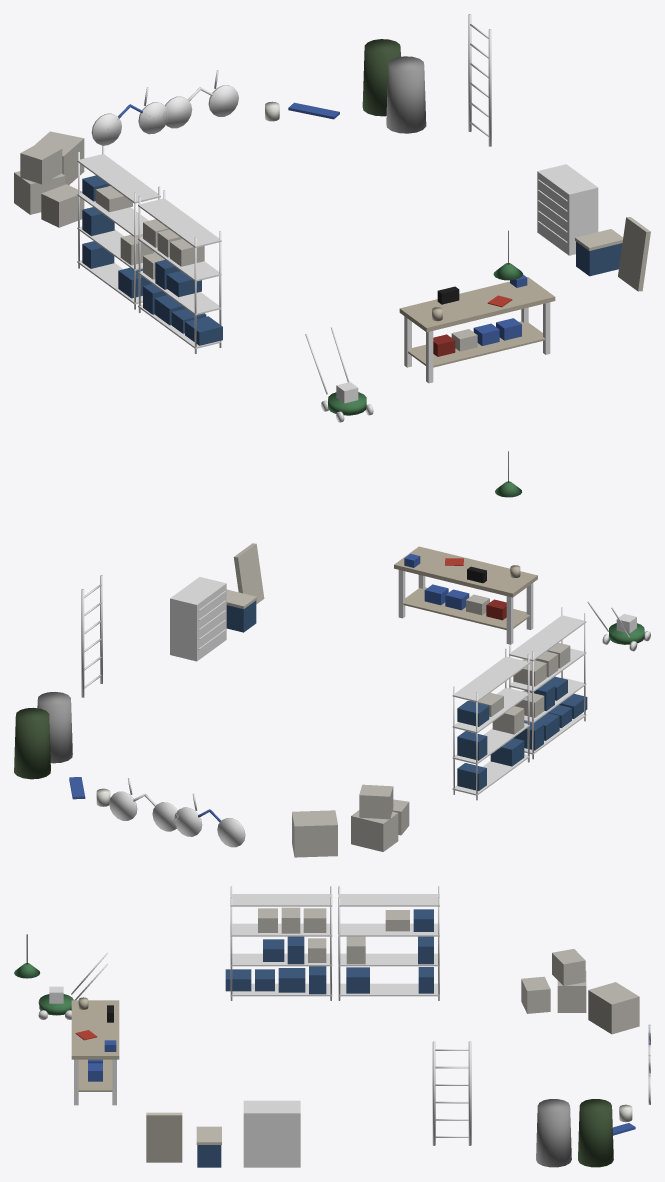
Rendered from hood_garage.glb.
The picture shows the model from 3 angles, top to bottom: view 1: azimuth 30°, elevation 25°; view 2: azimuth 150°, elevation 25°; view 3: azimuth 270°, elevation 25°; orthographic projection. The views are drawn at different scales.
Parts seen in each view (by area): view 1: chest_drawer.012, box.037, box.036, bench_shelf.008, bike_frame.027, bike_wheel.021, bin, cooler_lid.004, bin.001, bench_leg.014, bike_frame.026, light_shade.004 (+1 smaller); view 2: chest_drawer.012, box.037, box.036, bench_shelf.008, bike_frame.027, bike_wheel.021, bin.001, bin, cooler_lid.004, bench_leg.014, bike_frame.026, light_shade.004; view 3: chest_drawer.012, box.037, box.036, bike_frame.027, bench_shelf.008, cooler_lid.004, bin, bin.001, light_shade.004, bike_bar.013, bike_frame.026, bench_leg.014.
Part boxes in pixels (x1=…): chest_drawer.012: x1=77, y1=14, x2=567, y2=353; box.037: x1=14, y1=131, x2=477, y2=351; box.036: x1=82, y1=175, x2=622, y2=345; bench_shelf.008: x1=399, y1=277, x2=555, y2=367; bike_frame.027: x1=188, y1=87, x2=598, y2=255; bike_wheel.021: x1=91, y1=85, x2=373, y2=422; bin: x1=386, y1=56, x2=426, y2=133; cooler_lid.004: x1=575, y1=217, x2=650, y2=291; bin.001: x1=362, y1=39, x2=400, y2=116; bench_leg.014: x1=404, y1=302, x2=550, y2=383; bike_frame.026: x1=117, y1=104, x2=527, y2=345; light_shade.004: x1=328, y1=263, x2=522, y2=415; chest_drawer.012: x1=81, y1=575, x2=586, y2=800; box.037: x1=292, y1=594, x2=570, y2=857; box.036: x1=226, y1=600, x2=587, y2=790; bench_shelf.008: x1=394, y1=546, x2=537, y2=629; bike_frame.027: x1=133, y1=577, x2=226, y2=806; bike_wheel.021: x1=109, y1=631, x2=650, y2=847; bin.001: x1=14, y1=707, x2=50, y2=779; bin: x1=37, y1=692, x2=72, y2=763; cooler_lid.004: x1=226, y1=543, x2=264, y2=608; bench_leg.014: x1=398, y1=570, x2=533, y2=644; bike_frame.026: x1=198, y1=553, x2=469, y2=822; light_shade.004: x1=495, y1=481, x2=644, y2=644; chest_drawer.012: x1=230, y1=886, x2=471, y2=1145; box.037: x1=258, y1=907, x2=639, y2=1034; box.036: x1=197, y1=909, x2=433, y2=1167; bike_frame.027: x1=243, y1=1063, x2=650, y2=1167; bench_shelf.008: x1=71, y1=1000, x2=119, y2=1091; cooler_lid.004: x1=146, y1=1112, x2=221, y2=1162; bin: x1=536, y1=1099, x2=571, y2=1167; bin.001: x1=578, y1=1099, x2=613, y2=1167; light_shade.004: x1=14, y1=963, x2=73, y2=1015; bike_bar.013: x1=49, y1=953, x2=650, y2=1073; bike_frame.026: x1=88, y1=1033, x2=650, y2=1081; bench_leg.014: x1=74, y1=1059, x2=116, y2=1105.
Size of the model in its own units: 7.03 by 2.6 by 10.63.
